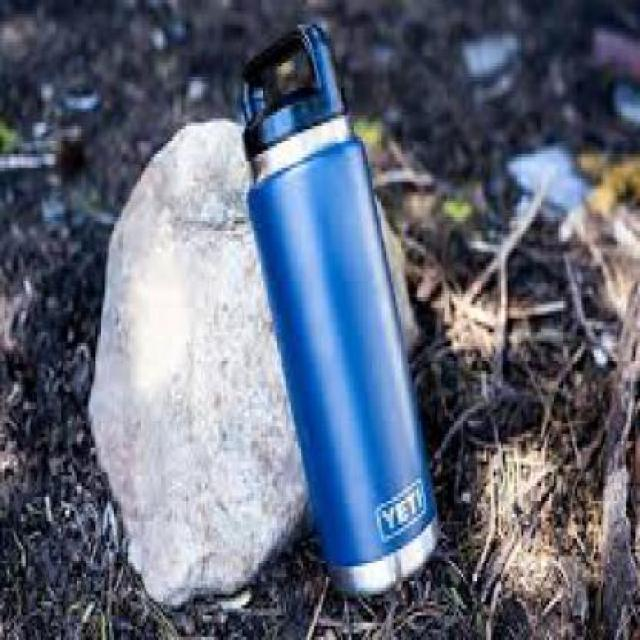Drinking: (209, 11, 445, 602)
